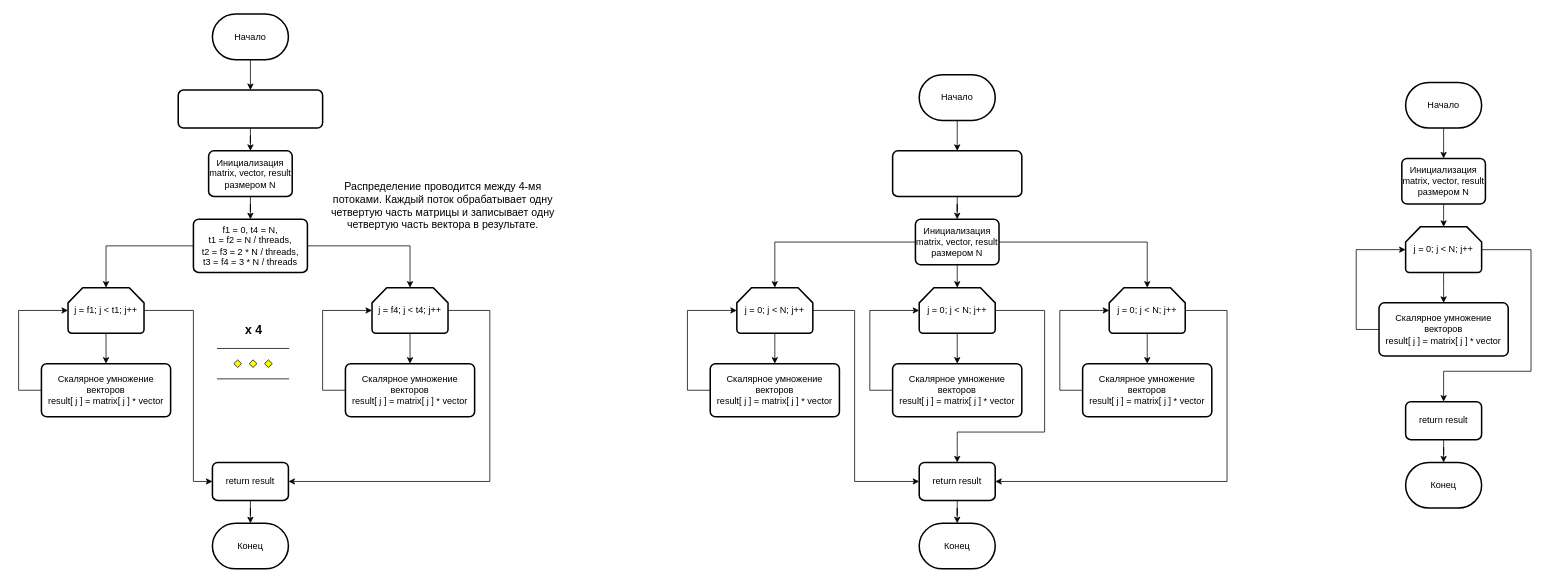
Some shapes in this 1550 by 582 pixel diagram are drawn without their labels. The shapes that lost their labels are listed below. From the top down, each one's centre as x and y in pixels, then its label:
point 250,108: threads = 4 omp_set_num_threads(threads)
point 956,173: omp_set_num_threads(4)
